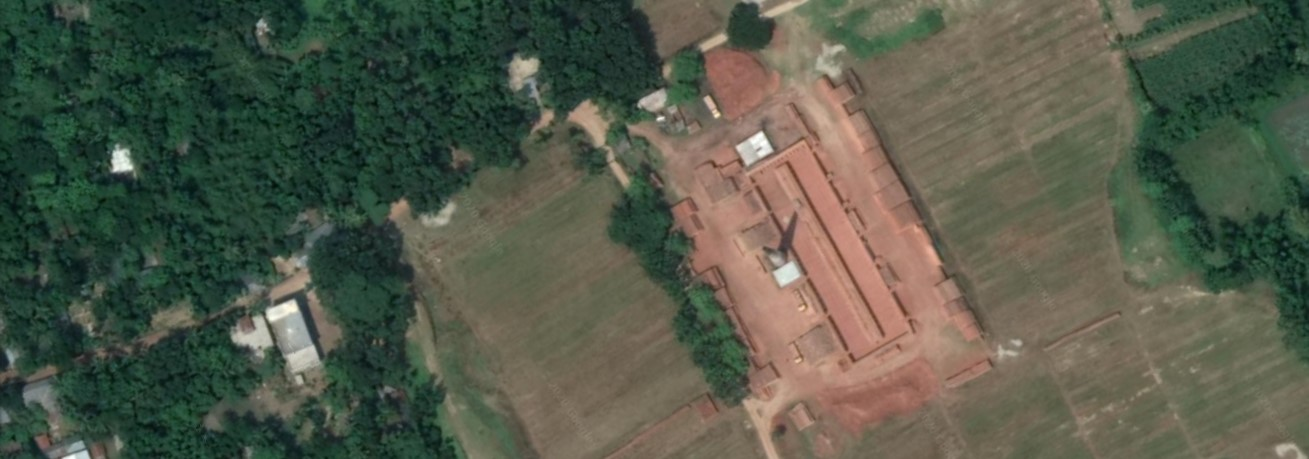kiln: (706, 151, 934, 322)
